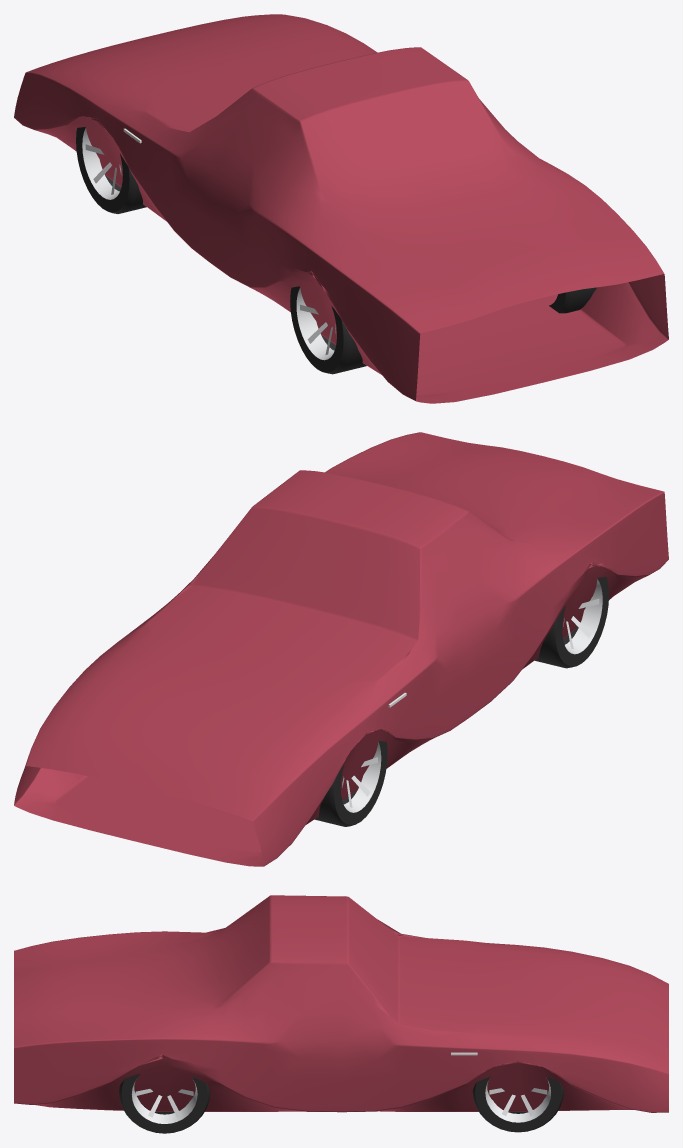
The model's file is vehicle.glb.
3 views of the same model, one above another, from view 1: azimuth 30°, elevation 25°; view 2: azimuth 150°, elevation 25°; view 3: azimuth 270°, elevation 25° (orthographic). The views are drawn at different scales.
Visible parts, largest first — view 1: BODY_AstonMartinDB7_MainHull, WHEEL_RR_Tire, WHEEL_FR_Tire, WHEEL_RR_Rim, WHEEL_FR_Rim, WHEEL_RL_Tire; view 2: BODY_AstonMartinDB7_MainHull, WHEEL_RR_Tire, WHEEL_FR_Tire, WHEEL_RR_Rim, WHEEL_FR_Rim; view 3: BODY_AstonMartinDB7_MainHull, WHEEL_RL_Tire, WHEEL_FL_Tire, WHEEL_RL_Rim, WHEEL_FL_Rim.
Boxes of the visible parts, left/top/right/bottom form: BODY_AstonMartinDB7_MainHull: left=14, top=14, right=668, bottom=403; WHEEL_RR_Tire: left=290, top=286, right=366, bottom=374; WHEEL_FR_Tire: left=76, top=127, right=146, bottom=213; WHEEL_RR_Rim: left=296, top=287, right=335, bottom=360; WHEEL_FR_Rim: left=82, top=127, right=121, bottom=199; WHEEL_RL_Tire: left=549, top=287, right=596, bottom=313; BODY_AstonMartinDB7_MainHull: left=14, top=432, right=668, bottom=866; WHEEL_RR_Tire: left=535, top=577, right=608, bottom=668; WHEEL_FR_Tire: left=314, top=741, right=387, bottom=826; WHEEL_RR_Rim: left=563, top=579, right=602, bottom=654; WHEEL_FR_Rim: left=342, top=741, right=381, bottom=812; BODY_AstonMartinDB7_MainHull: left=14, top=895, right=668, bottom=1112; WHEEL_RL_Tire: left=119, top=1074, right=210, bottom=1133; WHEEL_FL_Tire: left=472, top=1076, right=563, bottom=1132; WHEEL_RL_Rim: left=131, top=1079, right=197, bottom=1123; WHEEL_FL_Rim: left=485, top=1078, right=550, bottom=1122.
Bounding box in the file's own units: 1.92 × 1.29 × 4.8.
